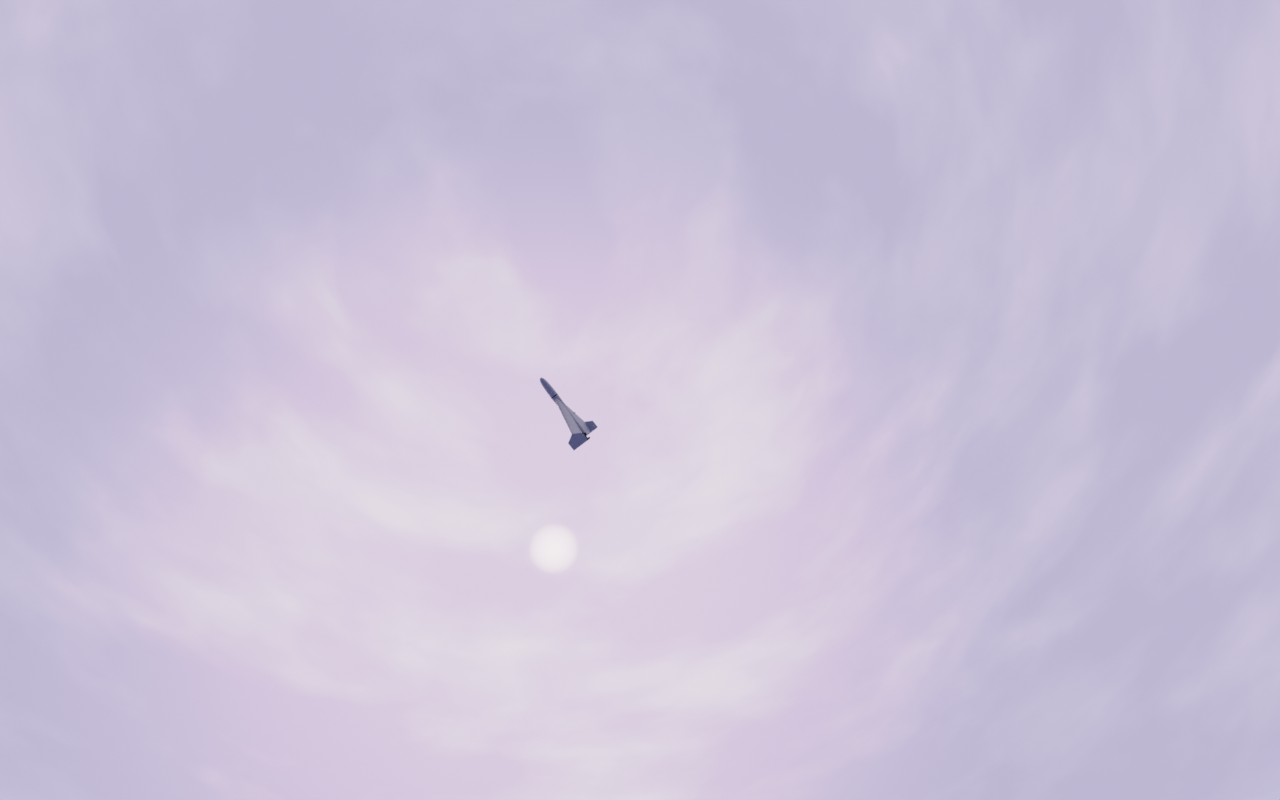shahed: (540, 378, 599, 452)
